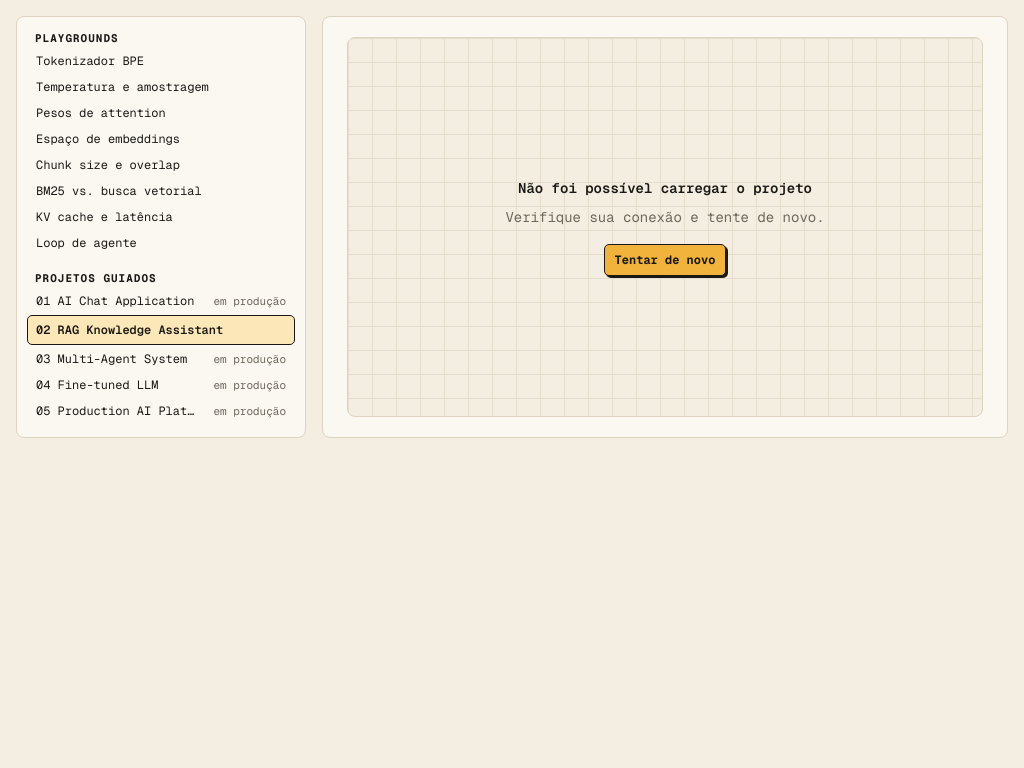
Test: LabPage (LAB-01.1, LAB-01.3) › falha ao carregar o projeto mostra tentar de novo, que recarrega
Check: the text "Não foi possível carregar o projeto" is shown, box [518,178,812,198]
Click the button "Tentar de novo": coordinates (665, 260) [604,244,726,276]
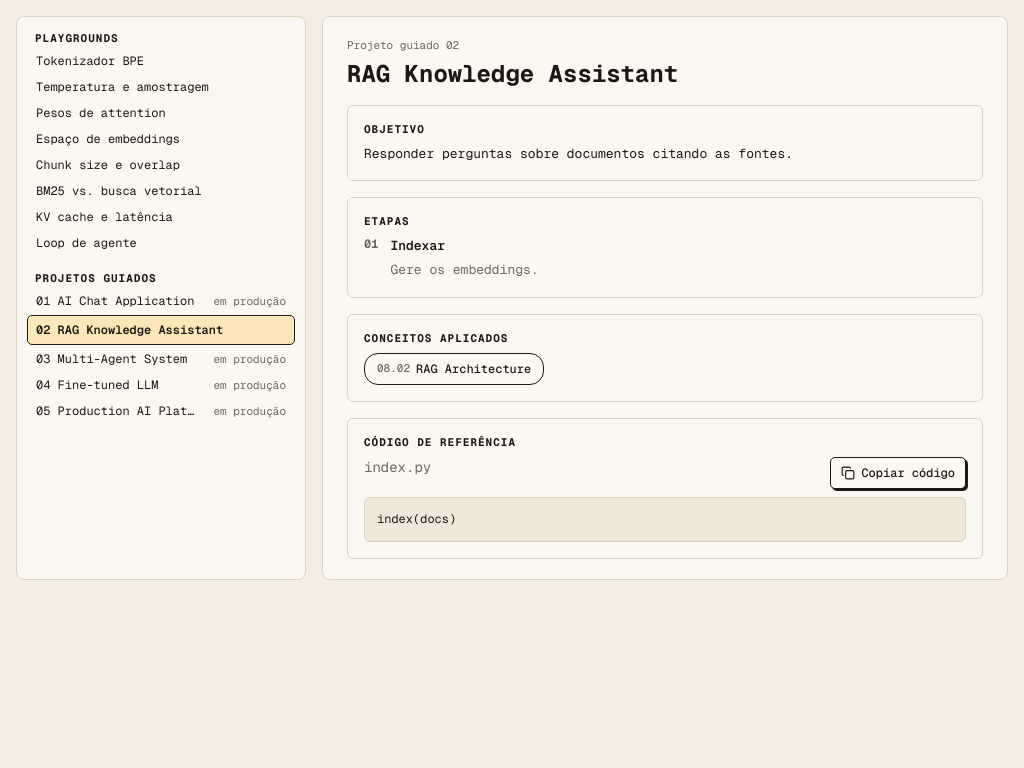
Check: the heading "RAG Knowledge Assistant" is shown, box [347,58,678,88]
